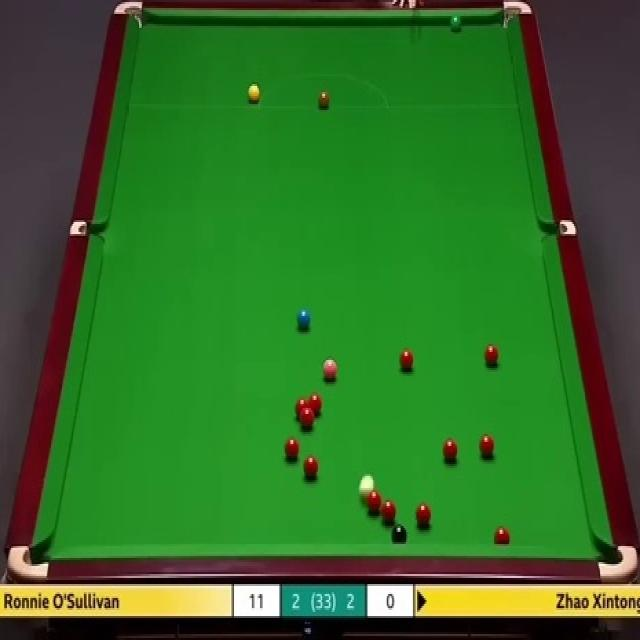black-ball: (392, 523, 408, 545)
blue-ball: (296, 308, 312, 329)
brown-ball: (318, 88, 330, 108)
green-ball: (450, 11, 463, 30)
pink-ball: (322, 359, 339, 384)
red-ball: (303, 451, 320, 480), (442, 438, 460, 464), (366, 491, 384, 517), (398, 346, 415, 373), (415, 504, 432, 530), (281, 439, 301, 461), (380, 498, 396, 525), (479, 434, 496, 458), (484, 344, 498, 369), (294, 398, 308, 422), (309, 393, 322, 418), (493, 526, 511, 543), (300, 411, 316, 430)
white-ball: (357, 475, 376, 497)
yellow-ball: (247, 86, 259, 102)
